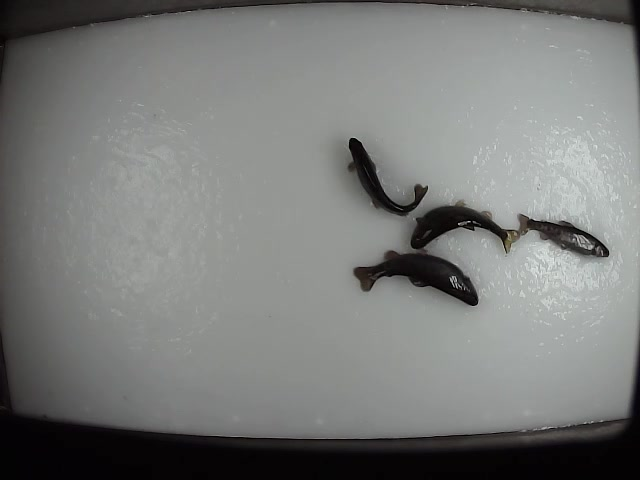fish: (351, 246, 480, 310), (344, 132, 430, 218), (409, 194, 521, 256), (513, 207, 613, 257)
